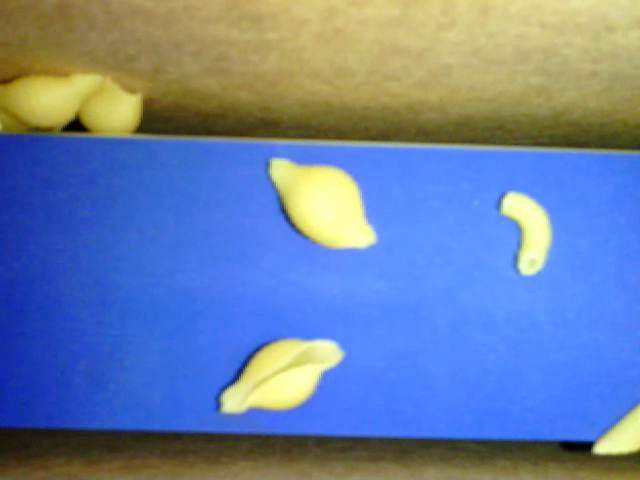elbow: (495, 191, 550, 275)
penne: (591, 393, 639, 453)
shell: (216, 336, 349, 414), (267, 156, 377, 249), (1, 69, 107, 122), (75, 75, 142, 136), (1, 108, 70, 136)
